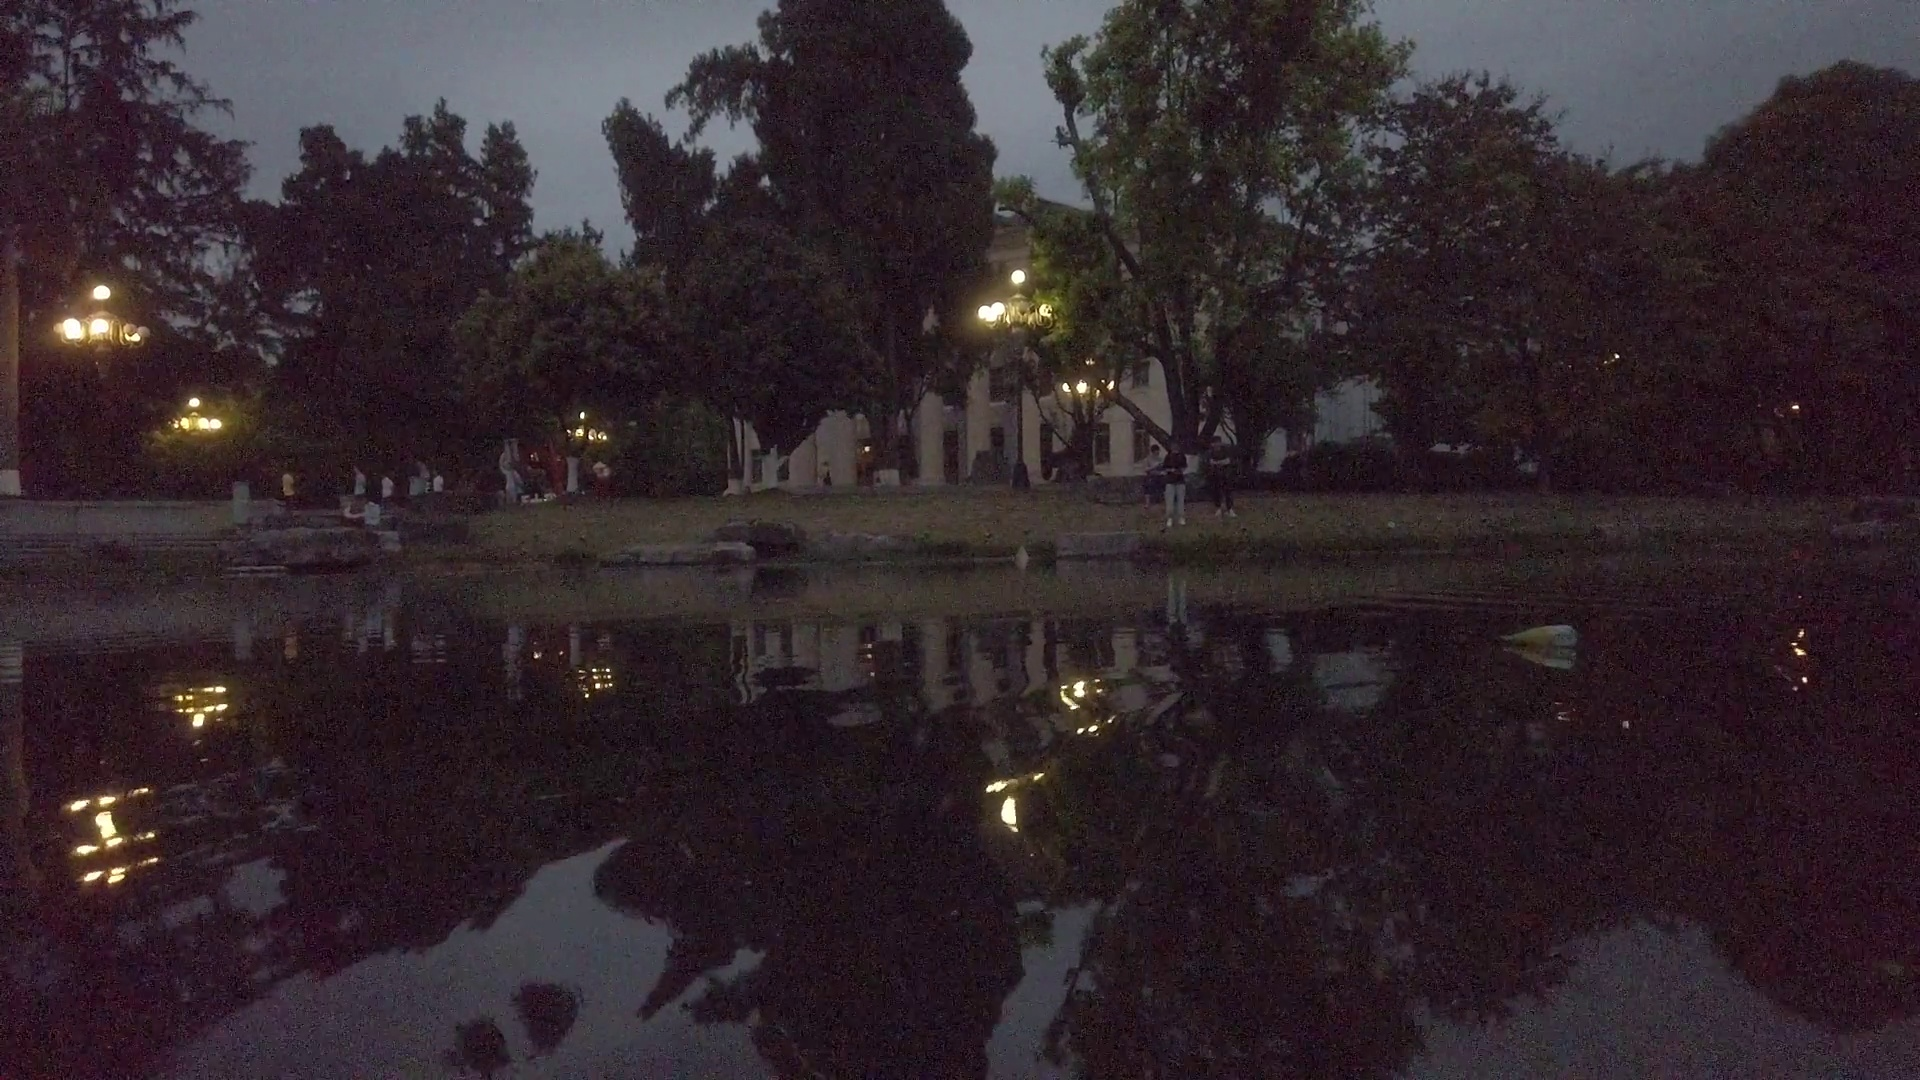bottle: (1495, 615, 1578, 655)
